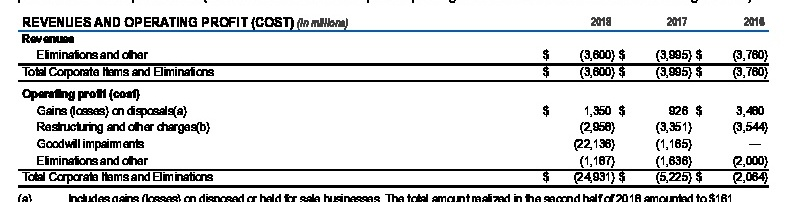table: (0, 0, 786, 202)
